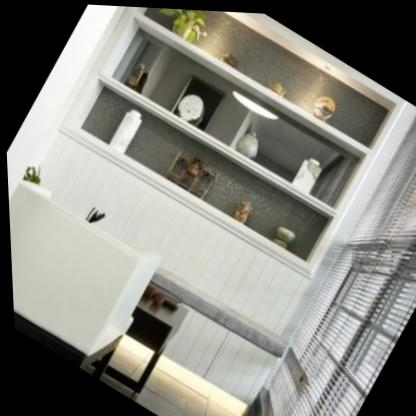Cupboard: (59, 6, 394, 260)
